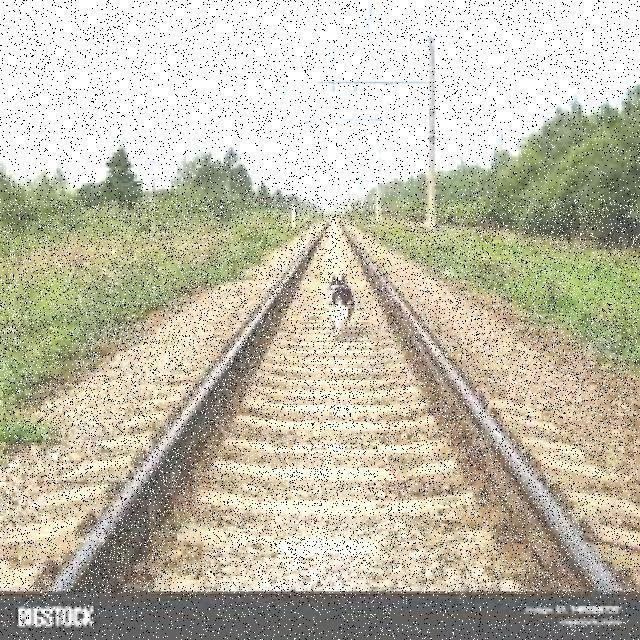rail: (1, 201, 639, 594)
